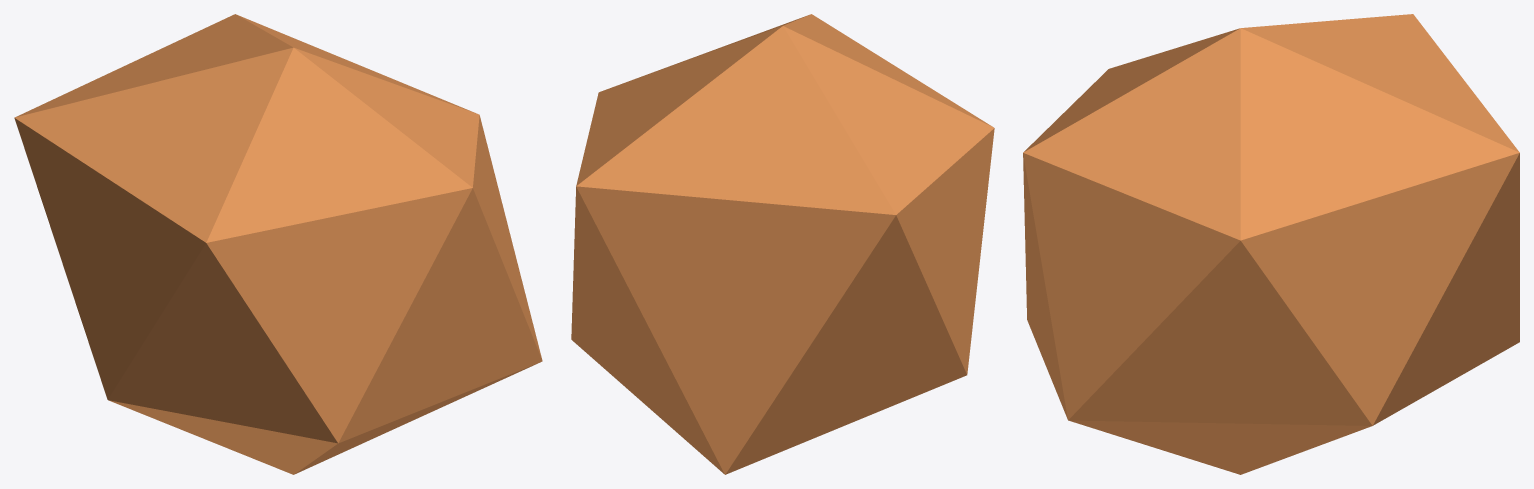
File: IronOre.fbx
The picture shows the model from 3 angles, left to right: view 1: azimuth 30°, elevation 25°; view 2: azimuth 150°, elevation 25°; view 3: azimuth 270°, elevation 25°; orthographic projection. The views are drawn at different scales.
Visible parts, largest first — view 1: Ore; view 2: Ore; view 3: Ore.
Part boxes in pixels (x1,y1,x2,y2): Ore: (14, 14, 542, 474); Ore: (571, 14, 994, 474); Ore: (1023, 14, 1519, 474).
Size of the model in its own units: 120 by 128 by 129.
